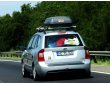License Plates: (56, 50, 75, 55)
